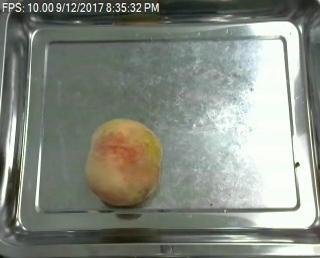Peach: (85, 117, 162, 207)
